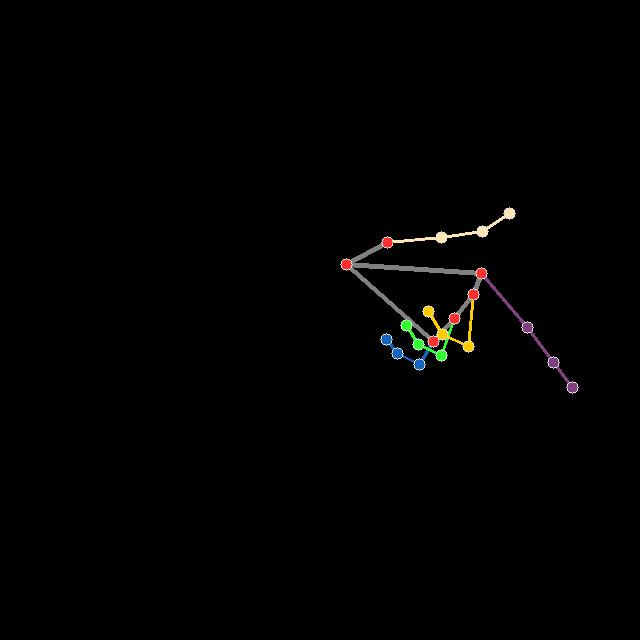gun: (336, 204, 582, 401)
